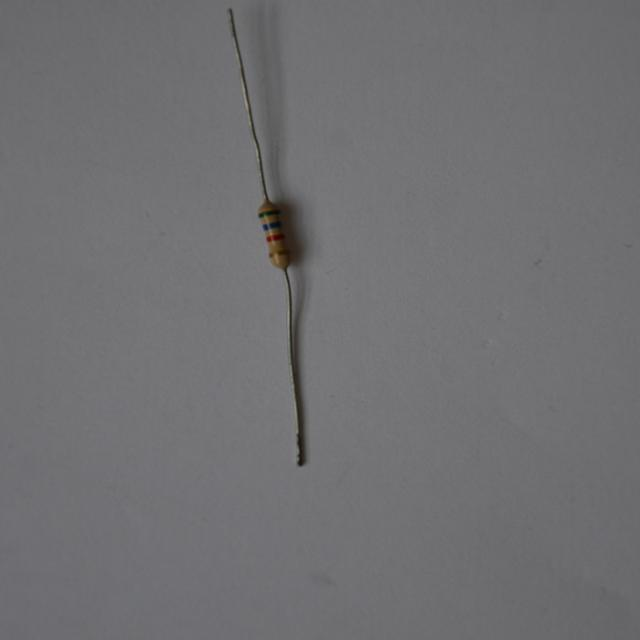blue: (263, 220, 280, 229)
gold: (269, 249, 287, 256)
green: (258, 208, 279, 218)
red: (267, 233, 283, 241)
resistor: (244, 197, 305, 272)
